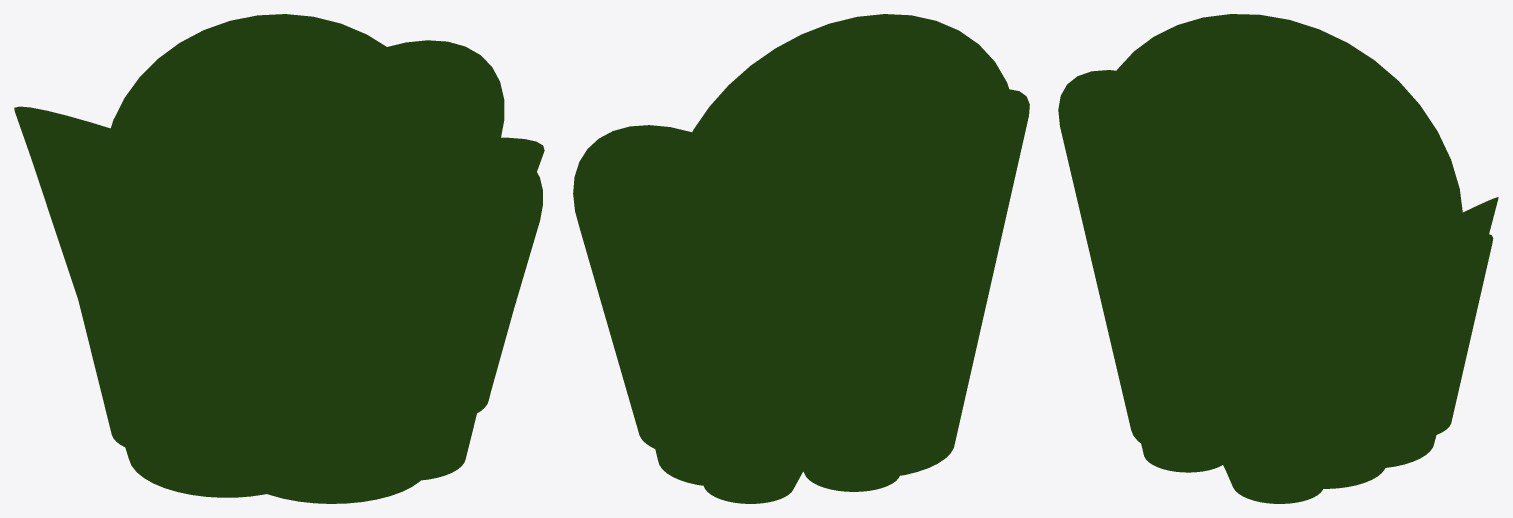
Rendered from S_Thin-Grass_01.fbx.
3 views of the same model, side by side, from view 1: azimuth 30°, elevation 25°; view 2: azimuth 150°, elevation 25°; view 3: azimuth 270°, elevation 25° (orthographic). The views are drawn at different scales.
Parts seen in each view (by area): view 1: Helix006; view 2: Helix006; view 3: Helix006.
Part boxes in pixels (<box>): Helix006: <box>14,14,544,503</box>; Helix006: <box>573,14,1029,503</box>; Helix006: <box>1058,14,1498,503</box>.
Size of the model in its own units: 36.62 by 28.89 by 35.84.
